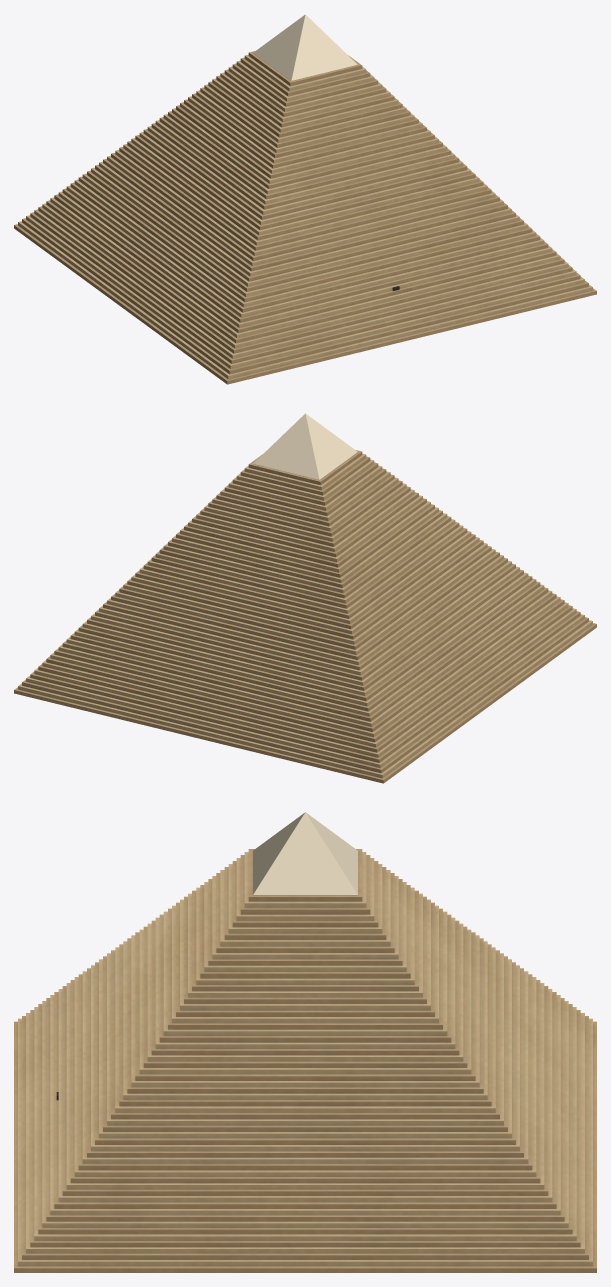
The model's file is pyramid_mellan_tex.glb.
3 views of the same model, one above another, from view 1: azimuth 30°, elevation 25°; view 2: azimuth 150°, elevation 25°; view 3: azimuth 270°, elevation 25° (orthographic). The views are drawn at different scales.
Parts seen in each view (by area): view 1: pyramid_mellan; view 2: pyramid_mellan; view 3: pyramid_mellan.
Part boxes in pixels (x1,y1,x2,y2): pyramid_mellan: [14, 14, 596, 384]; pyramid_mellan: [14, 413, 596, 783]; pyramid_mellan: [14, 812, 596, 1272].
Bounding box in the file's own units: 180 × 115 × 180.
Materials: 4 (2 with a texture image).
